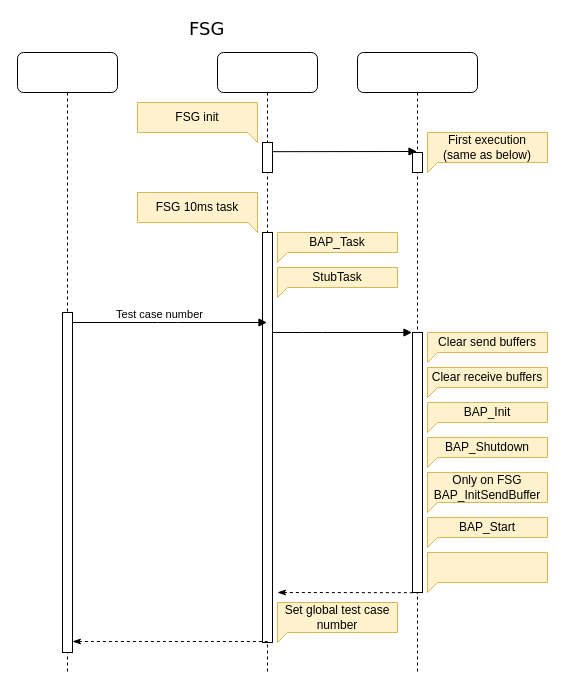
The diagram is 565 pixels wide and 690 high, and some of its shapes have lost their labels. Here are the shapes that lost their labels. From the top down, the box of each, then its label:
(16, 52, 118, 672): ASG
(216, 52, 318, 672): Stub
(356, 52, 478, 672): Init_LSG_states()
(426, 552, 548, 592): Check if LSG running BAP_GetLsgState
